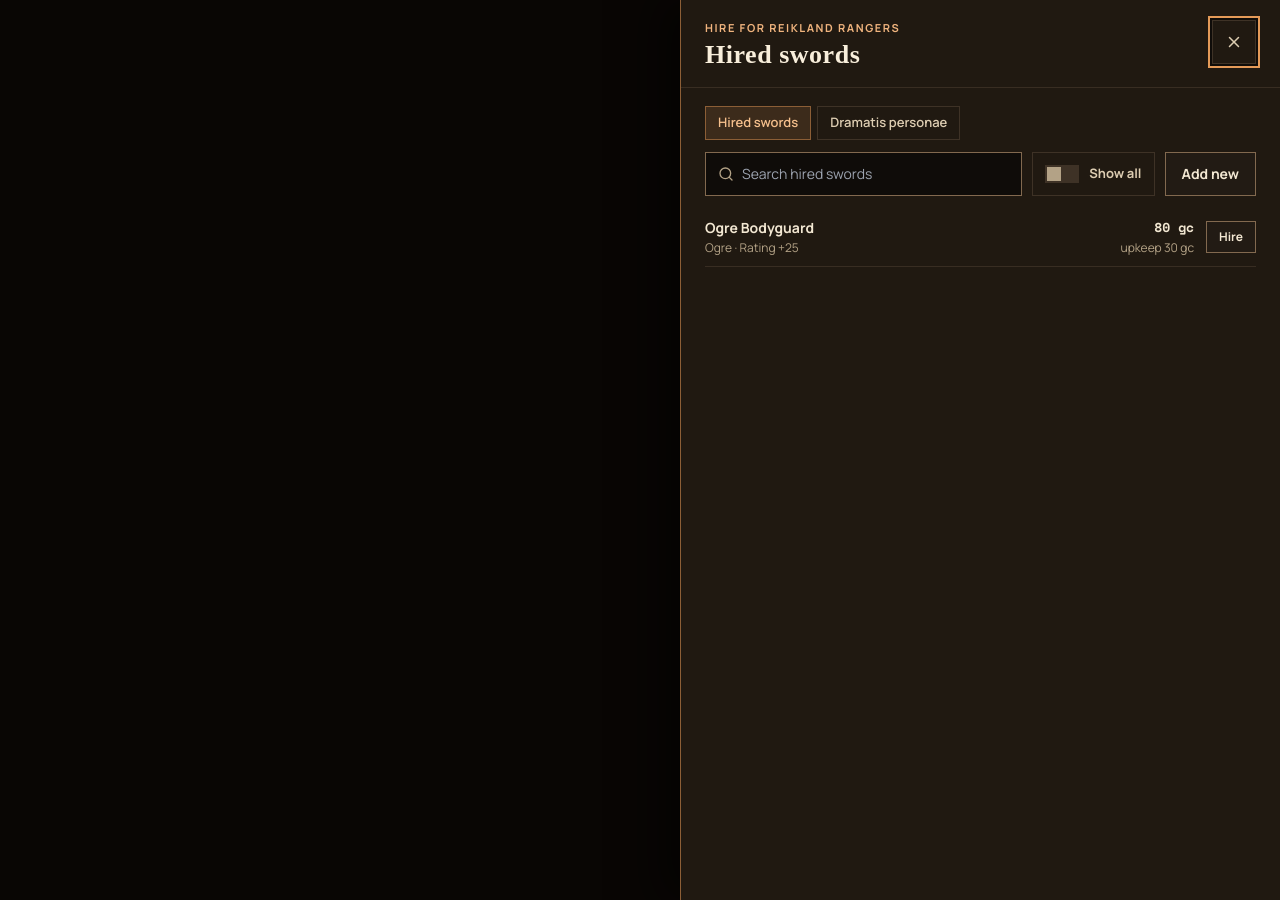
Test: HireDrawer › opens the hired sword form from Add new, and types nobody in by hand
What coordinates should you click on to do the following:
click the button "Add new"
I would click on:
 (1210, 174)
Its box is [1164,152,1256,196].
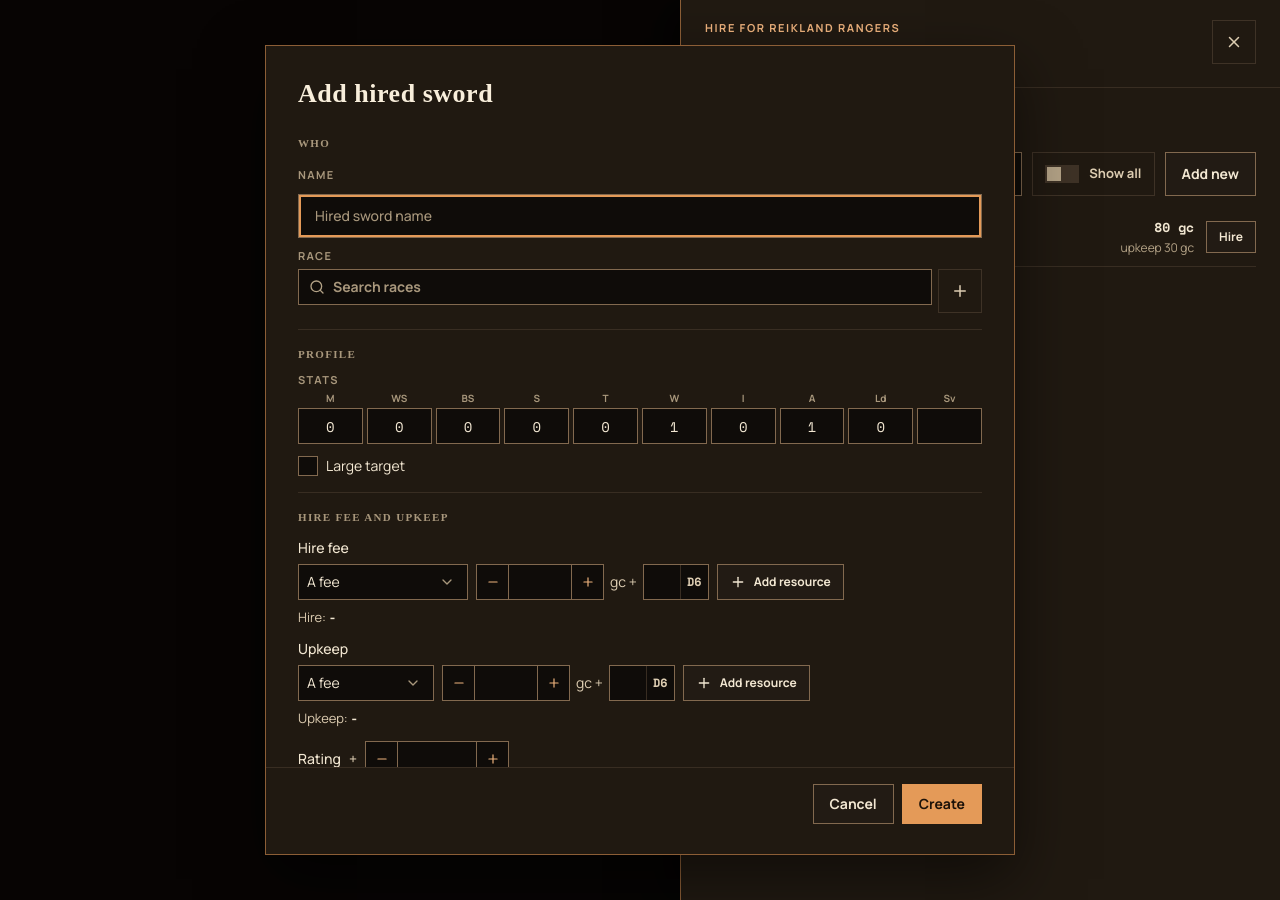
Now the dialog "Add hired sword" is shown, box [265,45,1015,855]
